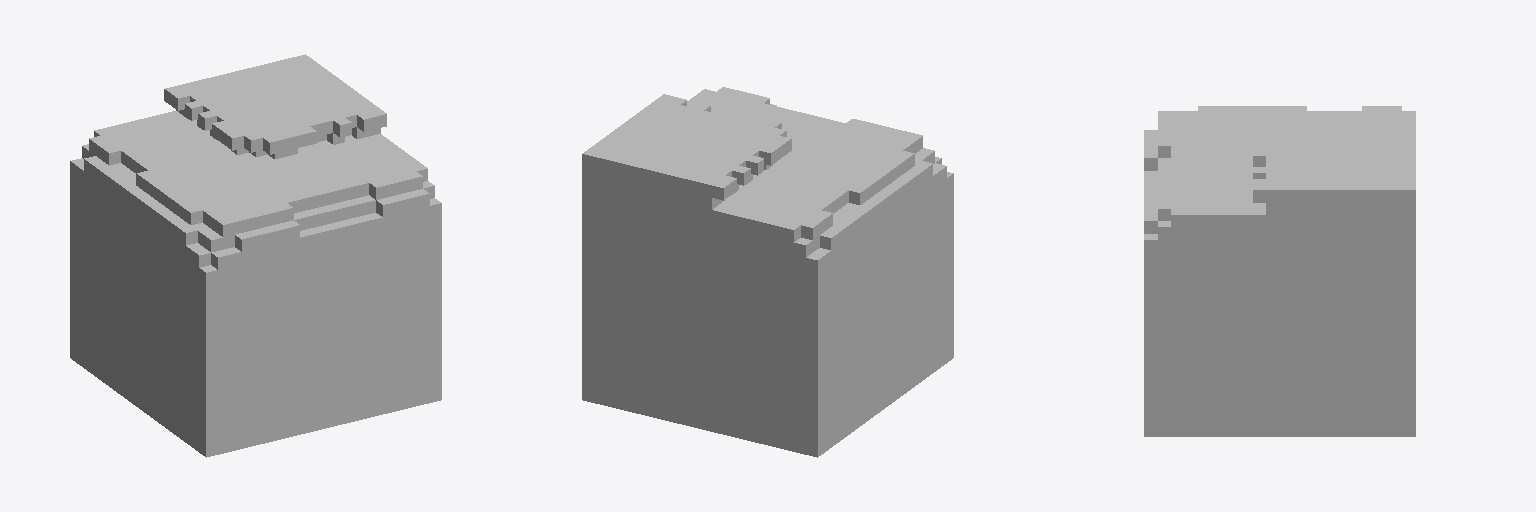
Rendered from Grass_Crn.obj.
3 views of the same model, side by side, from view 1: azimuth 30°, elevation 25°; view 2: azimuth 150°, elevation 25°; view 3: azimuth 270°, elevation 25° (orthographic).
Parts seen in each view (by area): view 1: Grass_Crn; view 2: Grass_Crn; view 3: Grass_Crn.
Boxes of the visible parts, box(x1,y1,x2,y2) form: Grass_Crn: box(70, 54, 441, 457); Grass_Crn: box(582, 87, 953, 457); Grass_Crn: box(1144, 106, 1415, 436).
Size of the model in its own units: 20 by 20 by 20.